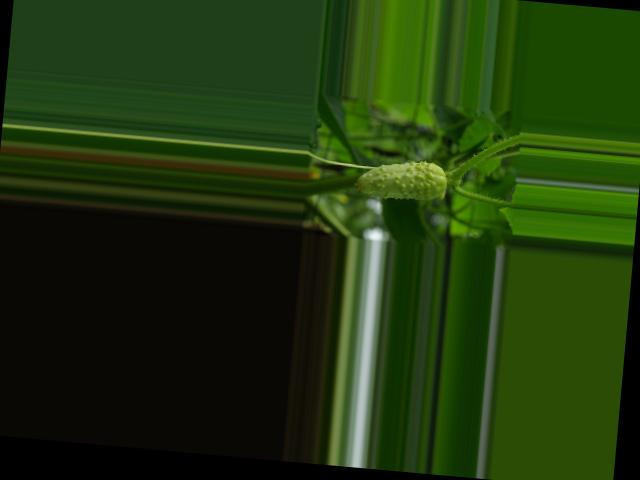cucumber: (353, 154, 449, 202)
